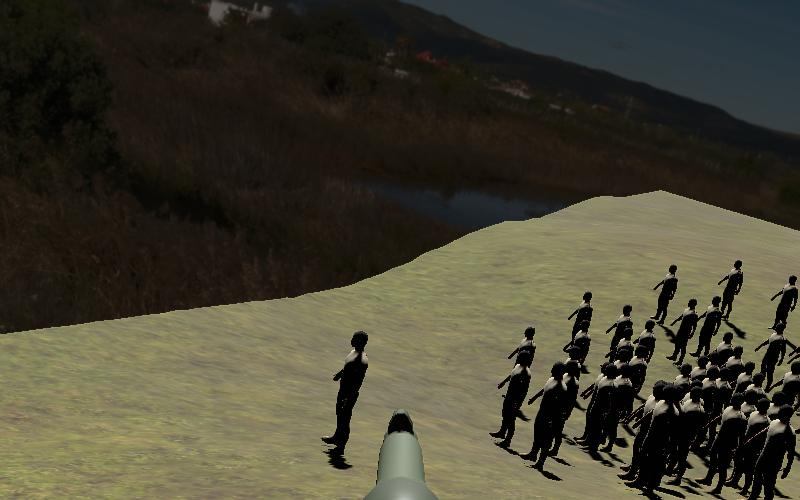Human: (714, 256, 748, 321), (648, 262, 681, 327)
